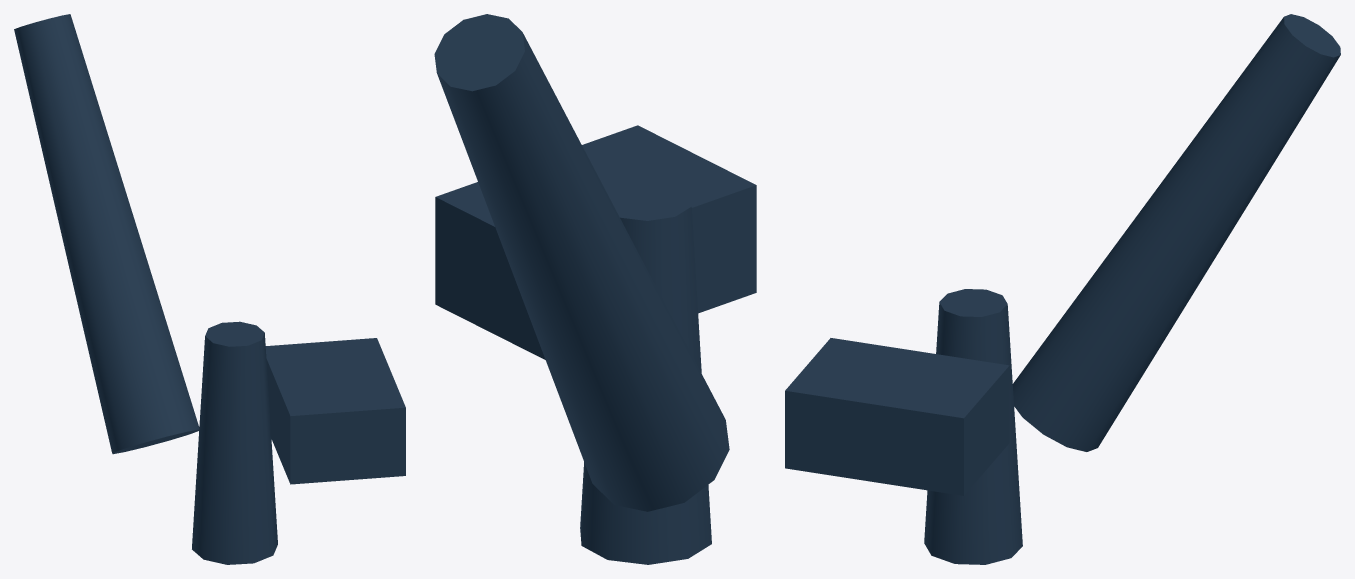
Rendered from observation-rig.glb.
3 views of the same model, side by side, from view 1: azimuth 30°, elevation 25°; view 2: azimuth 150°, elevation 25°; view 3: azimuth 270°, elevation 25° (orthographic). The views are drawn at different scales.
Visible parts, largest first — view 1: observation-rig-body; view 2: observation-rig-body; view 3: observation-rig-body.
Boxes of the visible parts, x1,y1,x2,y2 form: observation-rig-body: (14, 14, 405, 564); observation-rig-body: (434, 14, 756, 564); observation-rig-body: (785, 14, 1340, 564).
Bounding box in the file's own units: 1.52 × 2.9 × 2.92.
